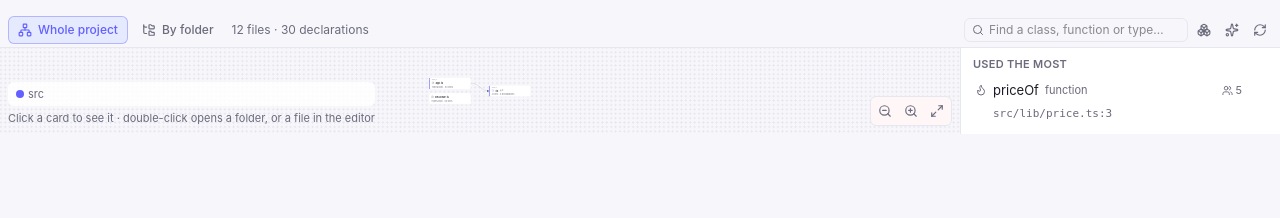
it: MapView › keeps a crowded folder readable: the rest wait in the panel
Double-click the button "src/ lib 2 3 files · 4 declarations" at [510, 91], box 489,85 -> 531,97
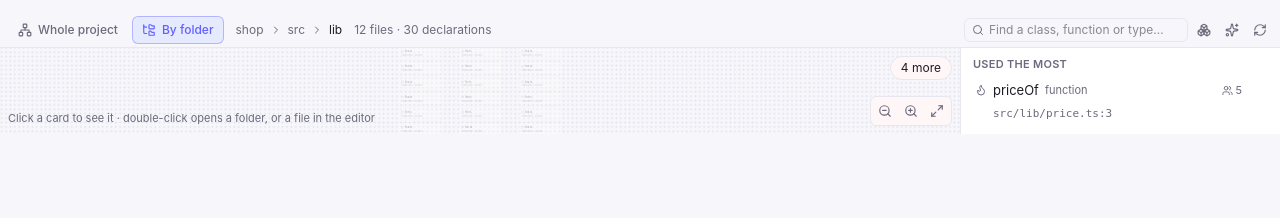
Expected: the text "f33.ts" is not shown
Click the button "4 more" at [921, 68], box 890,56 -> 952,80
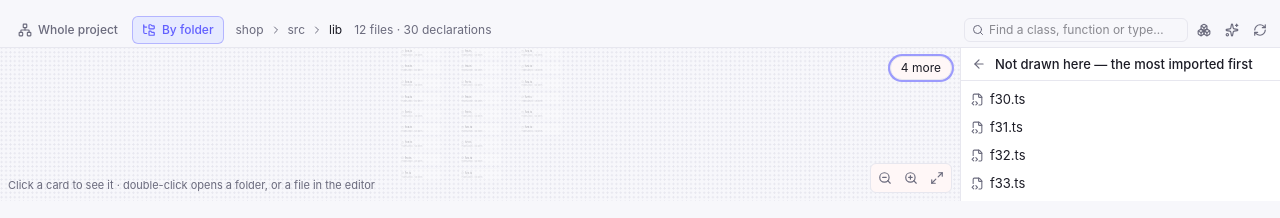
Result: the text "f33.ts" is shown at 990,175 -> 1025,191
